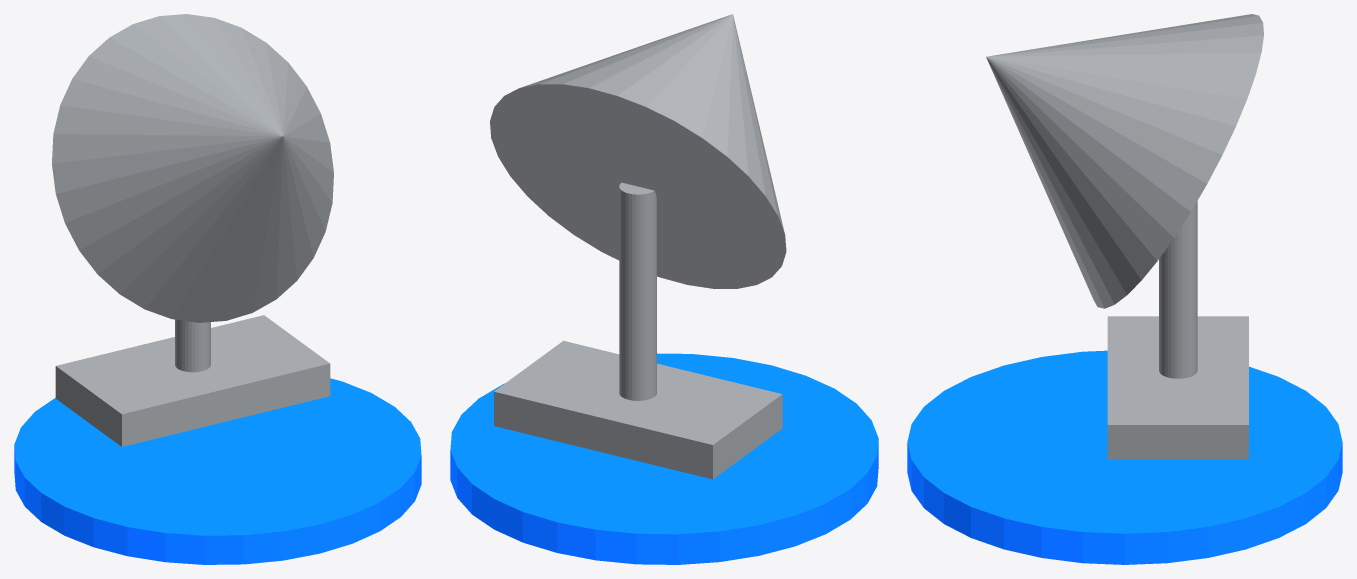
File: news_satellite_dish.dae
3 views of the same model, side by side, from view 1: azimuth 30°, elevation 25°; view 2: azimuth 150°, elevation 25°; view 3: azimuth 270°, elevation 25° (orthographic). The views are drawn at different scales.
Visible parts, largest first — view 1: 09_05_Popular_News_Satellite_Dish_part_01, 09_05_Popular_News_Satellite_Dish_ROOT_base, 09_05_Popular_News_Satellite_Dish_part_03, 09_05_Popular_News_Satellite_Dish_part_02; view 2: 09_05_Popular_News_Satellite_Dish_part_01, 09_05_Popular_News_Satellite_Dish_ROOT_base, 09_05_Popular_News_Satellite_Dish_part_03, 09_05_Popular_News_Satellite_Dish_part_02; view 3: 09_05_Popular_News_Satellite_Dish_ROOT_base, 09_05_Popular_News_Satellite_Dish_part_01, 09_05_Popular_News_Satellite_Dish_part_03, 09_05_Popular_News_Satellite_Dish_part_02.
Boxes of the visible parts, x1,y1,x2,y2 form: 09_05_Popular_News_Satellite_Dish_part_01: (52, 14, 333, 322); 09_05_Popular_News_Satellite_Dish_ROOT_base: (14, 378, 421, 564); 09_05_Popular_News_Satellite_Dish_part_03: (55, 315, 330, 446); 09_05_Popular_News_Satellite_Dish_part_02: (175, 319, 210, 372); 09_05_Popular_News_Satellite_Dish_part_01: (490, 14, 786, 288); 09_05_Popular_News_Satellite_Dish_ROOT_base: (450, 353, 878, 564); 09_05_Popular_News_Satellite_Dish_part_03: (494, 340, 782, 479); 09_05_Popular_News_Satellite_Dish_part_02: (619, 182, 656, 400); 09_05_Popular_News_Satellite_Dish_ROOT_base: (907, 350, 1342, 564); 09_05_Popular_News_Satellite_Dish_part_01: (986, 14, 1263, 308); 09_05_Popular_News_Satellite_Dish_part_03: (1107, 316, 1248, 459); 09_05_Popular_News_Satellite_Dish_part_02: (1159, 201, 1197, 378).
Size of the model in its own units: 0.76 by 0.85 by 0.76.
